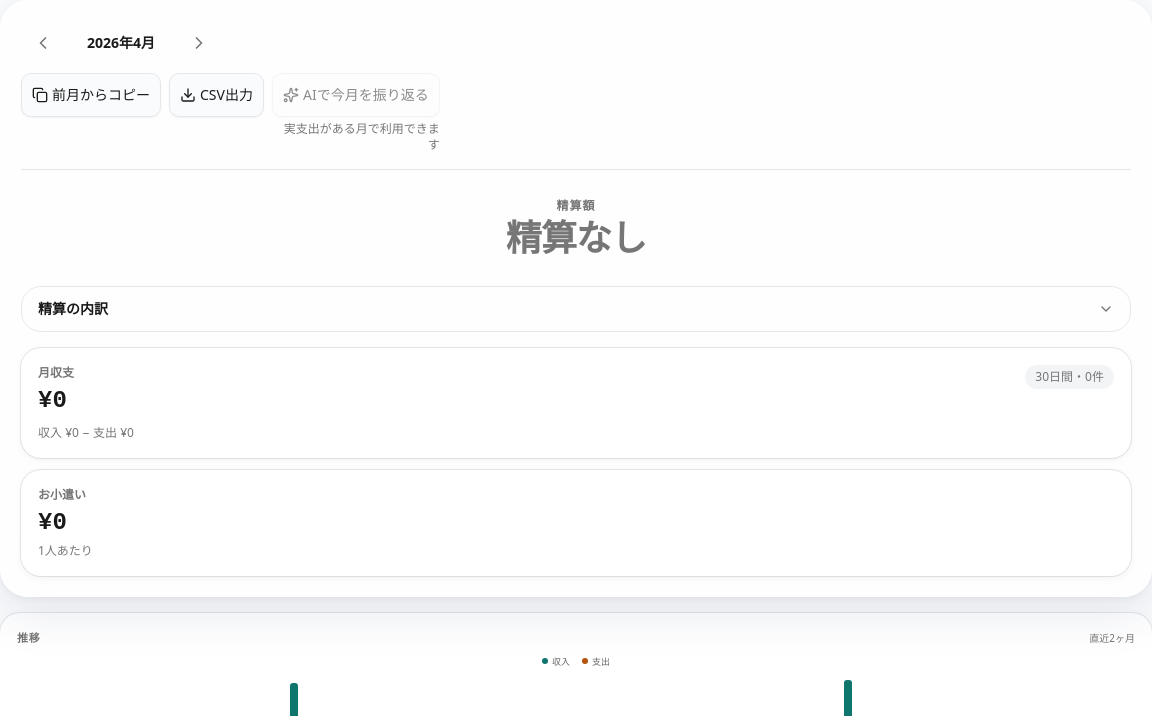
MonthlyOverview › 精算額と月収支の間に内訳を配置し、空配列は精算不要にする
The width and height of the screenshot is (1152, 716).
Click the button "精算の内訳" at (73, 308), box [22,287,1130,331]
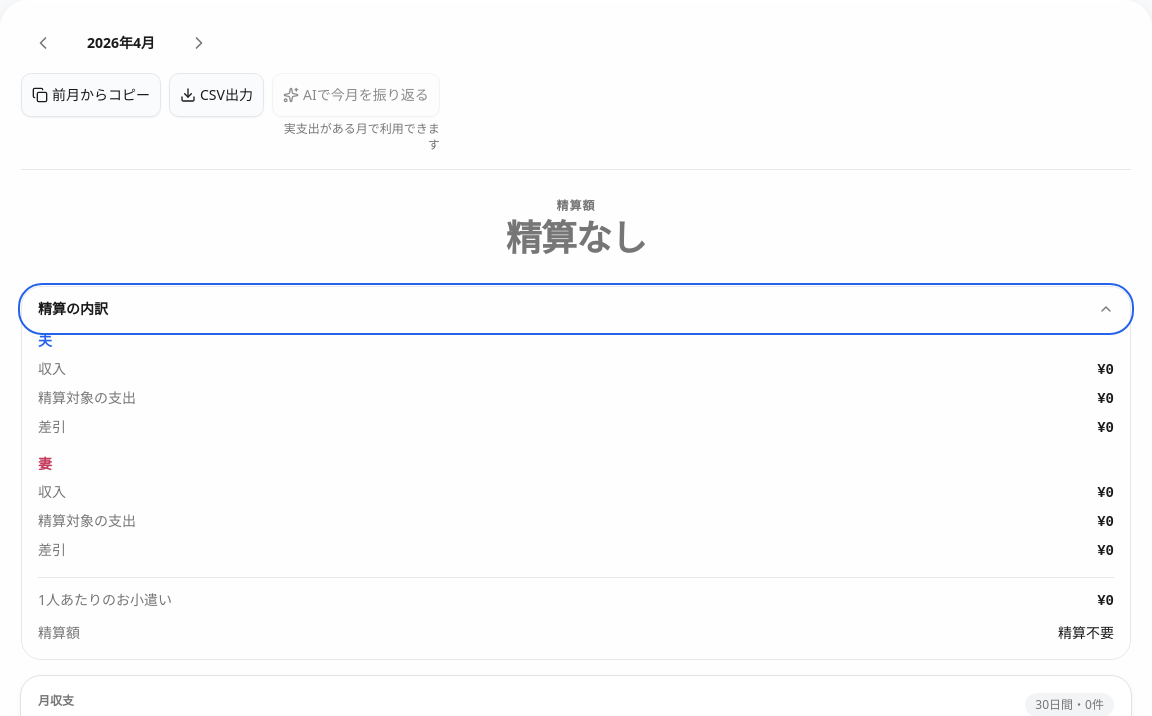
Result: the text "精算不要" is shown at [1058,623,1114,643]
